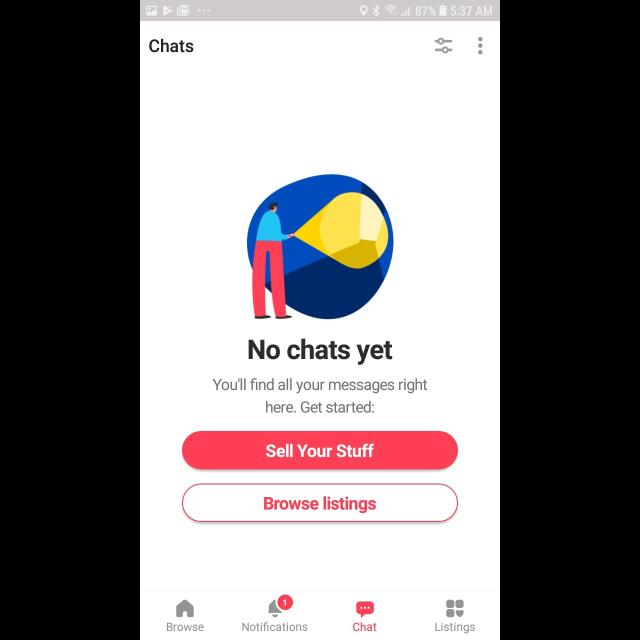icon: (268, 594, 294, 618), (446, 600, 464, 618), (176, 599, 194, 617), (435, 37, 453, 54), (356, 601, 374, 617), (478, 37, 482, 55)
image: (246, 174, 394, 320)
text: (212, 378, 428, 412), (249, 338, 393, 366), (242, 621, 308, 631), (150, 39, 194, 53), (435, 622, 475, 634), (168, 622, 205, 632), (353, 622, 377, 632)
textbutton: (182, 430, 458, 470), (182, 483, 458, 522)
uppertaskbar: (140, 1, 500, 22)
